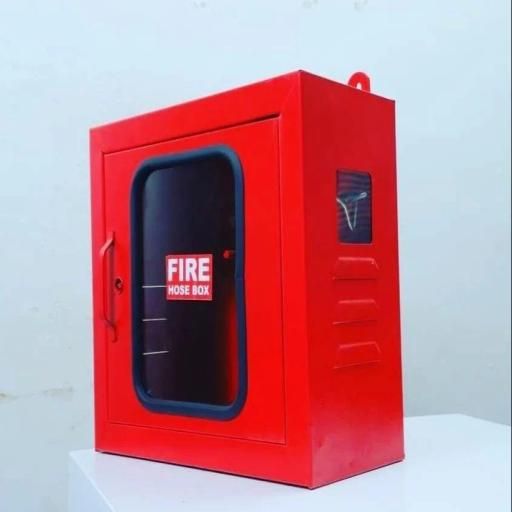fire_hose: (84, 61, 412, 491)
